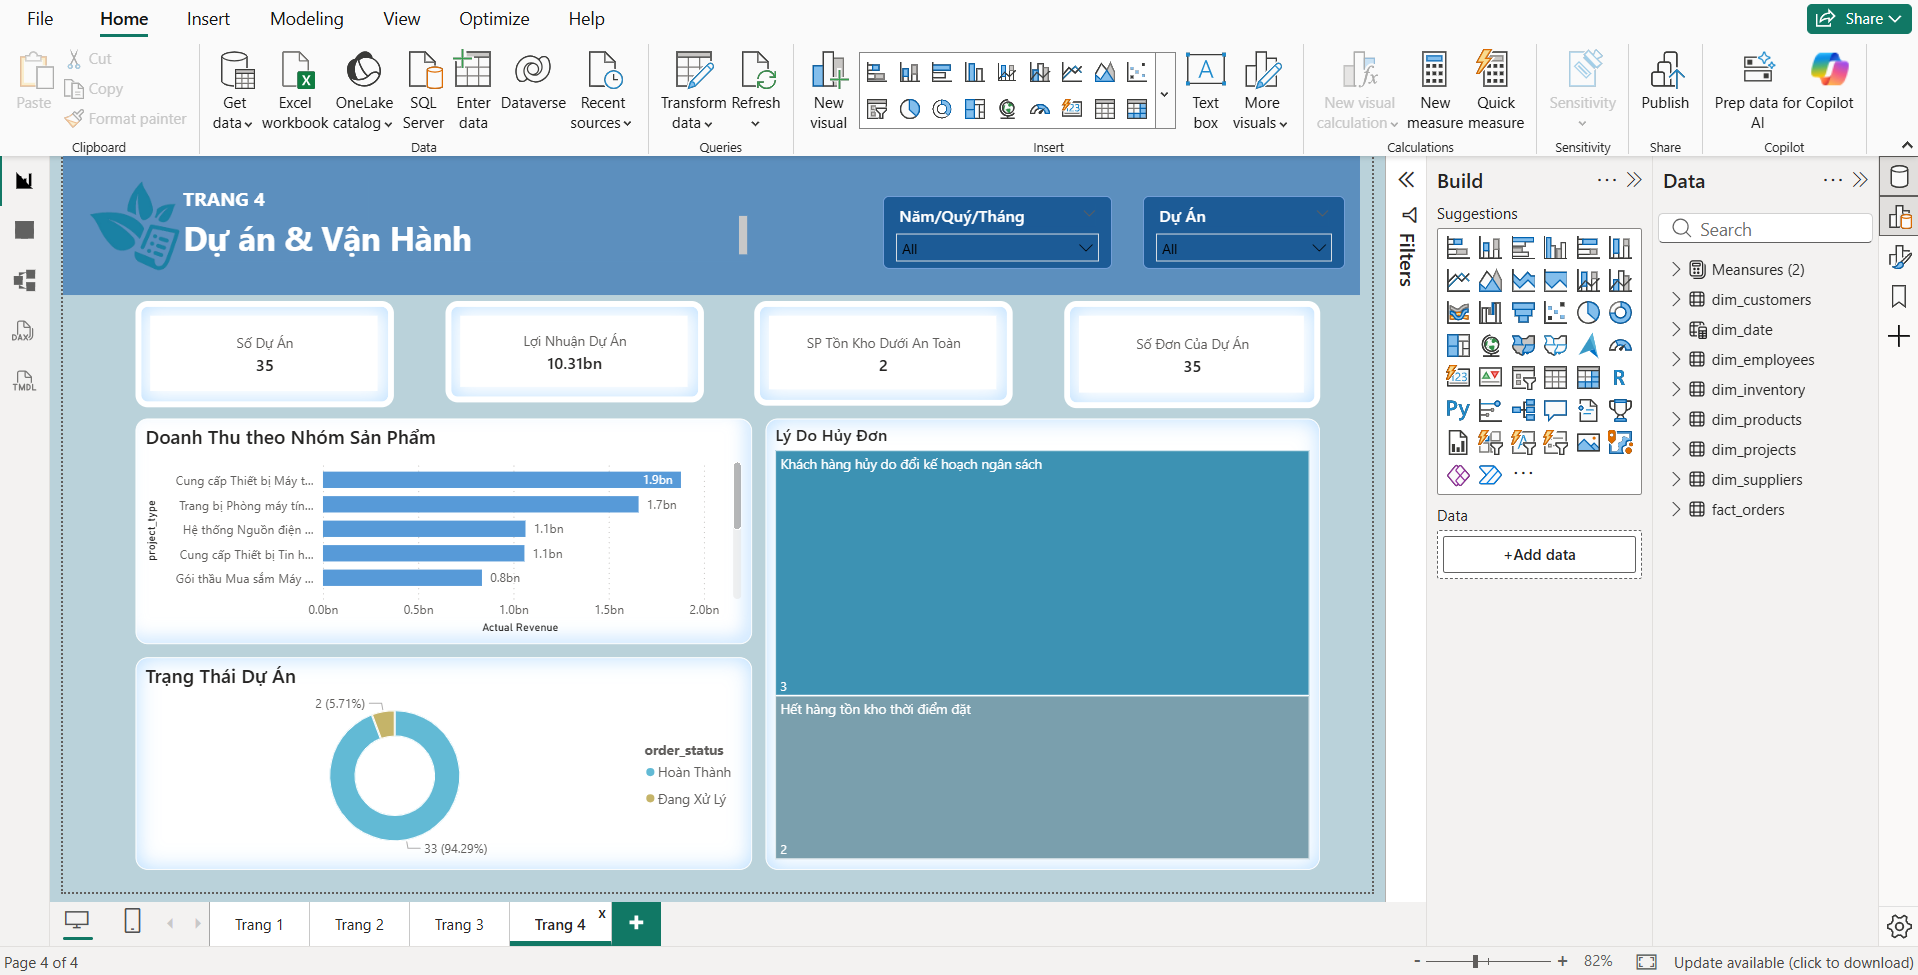

What the dashboard file says about the page in this screenshot:
{"tool":"powerbi","page":{"name":"Trang 4","canvas":[1280,720],"ordinal":3},"visuals":[{"type":"cardVisual","fields":{"Data":["Meansures (2).Total Projects"]},"box":[70.7,141.4,252.5,103.9],"z":0},{"type":"textbox","box":[0,0,1268.8,136.2],"z":1000},{"type":"textbox","box":[112.4,54,561.8,49.8],"z":2000},{"type":"textbox","box":[112.5,24.5,186.1,40.4],"z":3000},{"type":"cardVisual","fields":{"Data":["Meansures (2).Revenue Project"]},"box":[373.6,141.4,252.5,99.6],"z":4000},{"type":"image","box":[18.8,18.8,103.9,98.1],"z":5000},{"type":"slicer","title":"Kênh bán ","fields":{"Values":["dim_date.years","dim_date.quaters","dim_date.months"]},"box":[802.2,39.1,223.8,70.9],"z":6000},{"type":"slicer","title":"Kênh bán ","fields":{"Values":["dim_projects.project_type"]},"box":[1056.2,38.8,197.5,71.2],"z":7000},{"type":"clusteredBarChart","title":"Doanh Thu theo Nhóm Sản Phẩm","fields":{"Category":["dim_projects.project_type"],"Y":["Meansures (2).Actual Revenue"]},"box":[70.7,256.8,603.1,220.7],"z":8000},{"type":"cardVisual","fields":{"Data":["Meansures (2).Products NotSafe"]},"box":[676.6,141.4,252.5,102.4],"z":9000},{"type":"donutChart","title":"Trạng Thái Dự Án","fields":{"Category":["fact_orders.order_status"],"Y":["CountNonNull(fact_orders.project_id)"]},"box":[70.7,490.5,603.1,207.8],"z":10000},{"type":"treemap","title":"Lý Do Hủy Đơn","fields":{"Group":["fact_orders.notes"],"Values":["CountNonNull(fact_orders.order_status)"]},"box":[686.8,256.8,542.5,441.5],"z":11000},{"type":"cardVisual","fields":{"Data":["Meansures (2).Orders Project"]},"box":[979.5,141.4,250.7,105.2],"z":12000}]}

Visuals, with their boxes on the page's 1280x720 design canvas (x1, y1, x2, y2). These are canvas units, not pixel positions in the 1918x975 screenshot, which may show the page scaled, cropped or inside an application window:
cardVisual - Meansures (2).Total Projects: box(71, 141, 323, 245)
textbox: box(0, 0, 1269, 136)
textbox: box(112, 54, 674, 104)
textbox: box(112, 24, 299, 65)
cardVisual - Meansures (2).Revenue Project: box(374, 141, 626, 241)
image: box(19, 19, 123, 117)
"Kênh bán " slicer: box(802, 39, 1026, 110)
"Kênh bán " slicer: box(1056, 39, 1254, 110)
"Doanh Thu theo Nhóm Sản Phẩm" clusteredBarChart: box(71, 257, 674, 478)
cardVisual - Meansures (2).Products NotSafe: box(677, 141, 929, 244)
"Trạng Thái Dự Án" donutChart: box(71, 490, 674, 698)
"Lý Do Hủy Đơn" treemap: box(687, 257, 1229, 698)
cardVisual - Meansures (2).Orders Project: box(980, 141, 1230, 247)
